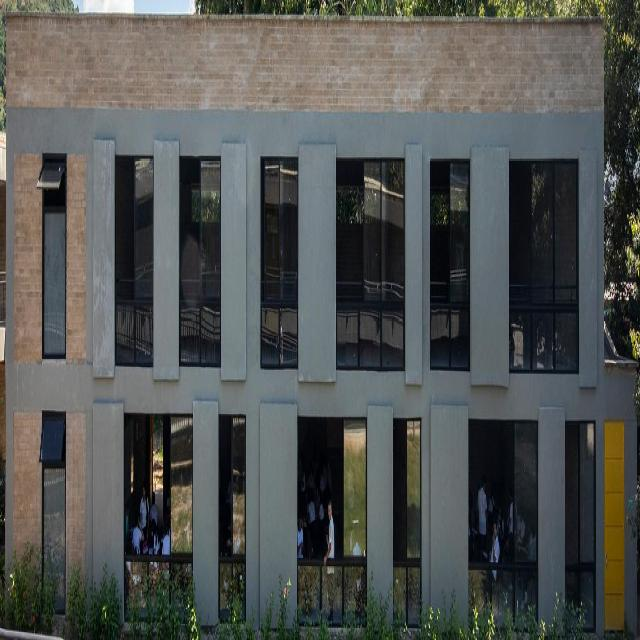door: (603, 424, 626, 637)
window: (469, 425, 539, 639), (123, 423, 192, 640), (335, 167, 405, 380), (509, 168, 578, 380), (297, 428, 367, 636), (429, 164, 471, 378), (180, 164, 222, 370), (115, 168, 153, 378), (260, 168, 298, 375), (564, 429, 596, 640), (218, 425, 246, 640), (39, 421, 67, 635), (393, 427, 420, 633), (40, 170, 68, 363)
